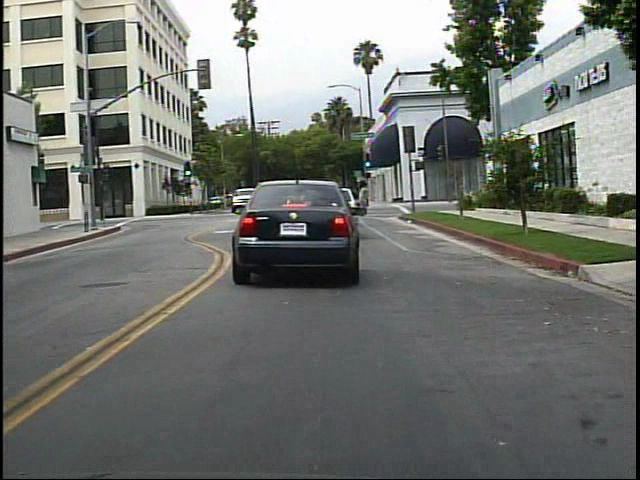person: (349, 175, 375, 220)
